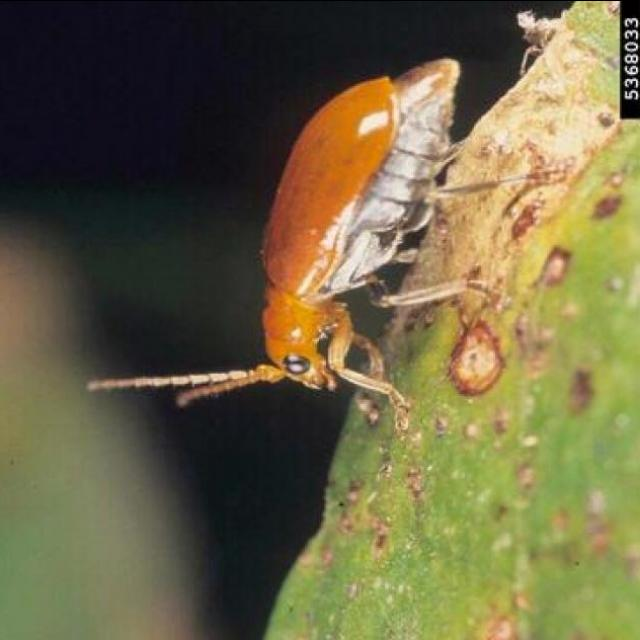Pumpkin Beetle: (75, 41, 583, 439)
